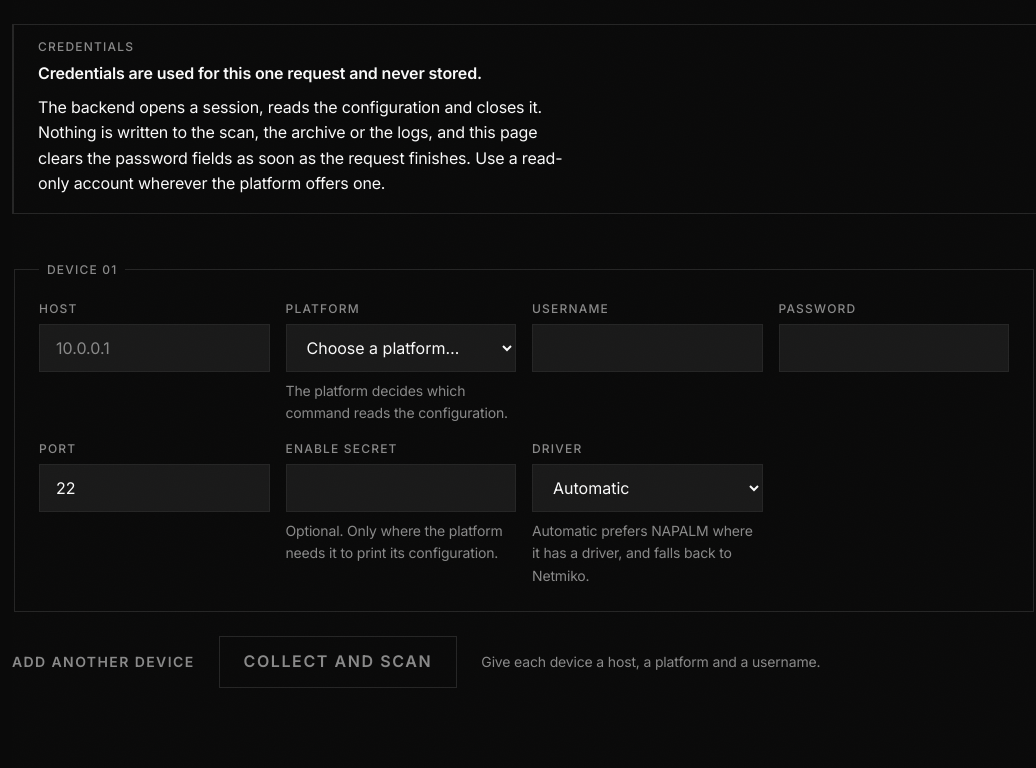
Test case: Collect › shows the command a platform will actually be read with
Select "Fortinet FortiGate" in the dropdown labelled "Platform" at (401, 348), box [286, 324, 516, 372]
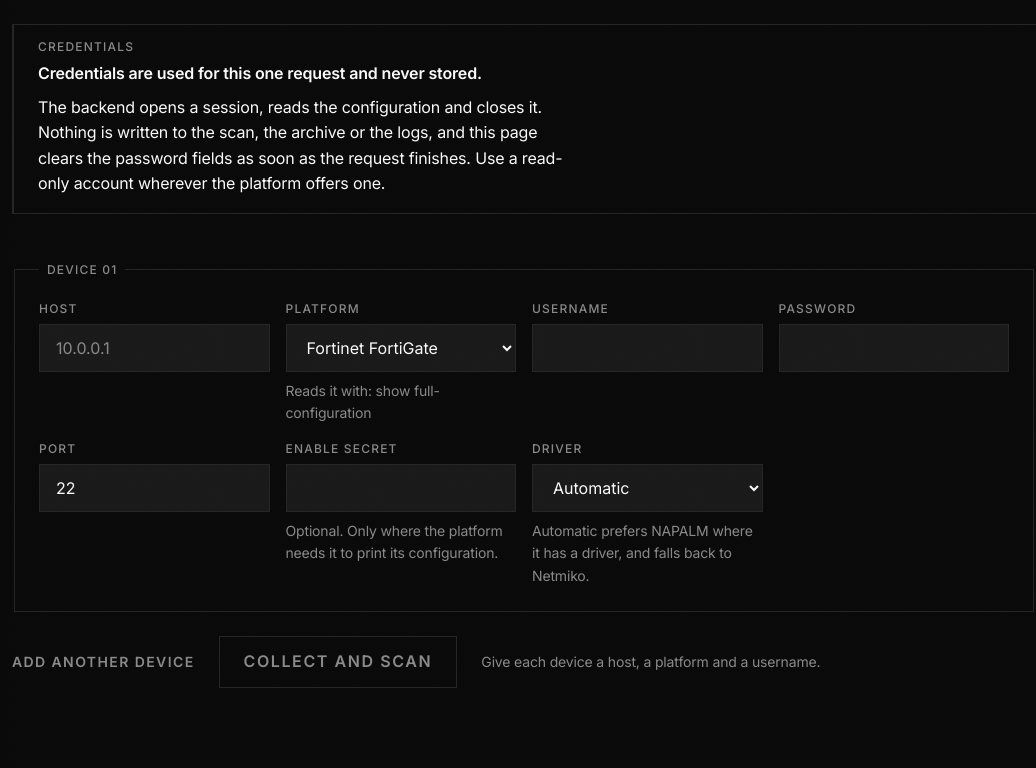
Expected: the text "Reads it with: show full-configuration" is shown, [286, 382, 440, 421]
